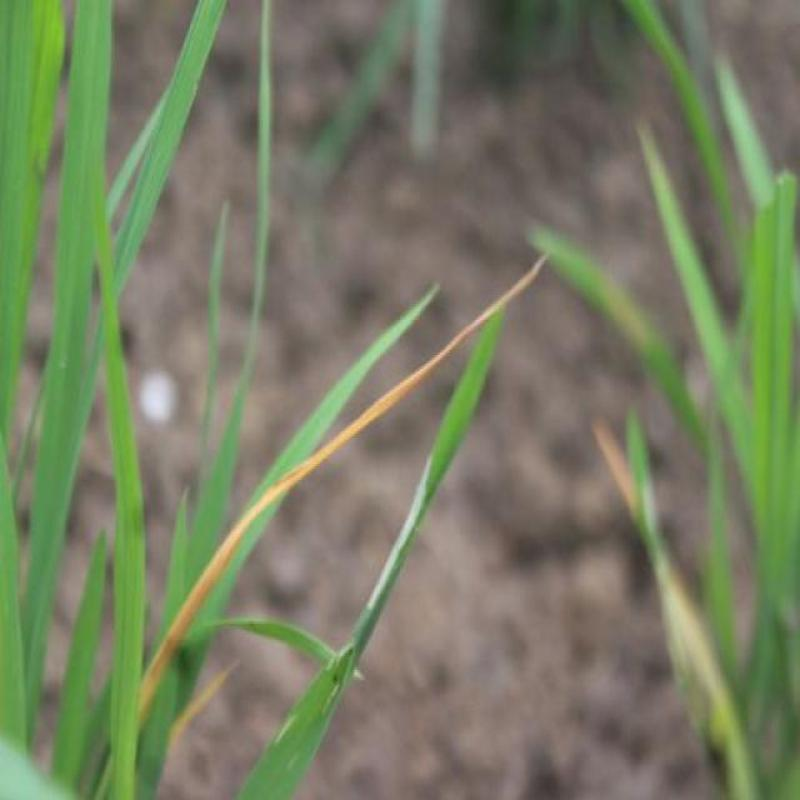Rice Tungro: (457, 245, 568, 305), (376, 355, 450, 405), (179, 568, 211, 648)
